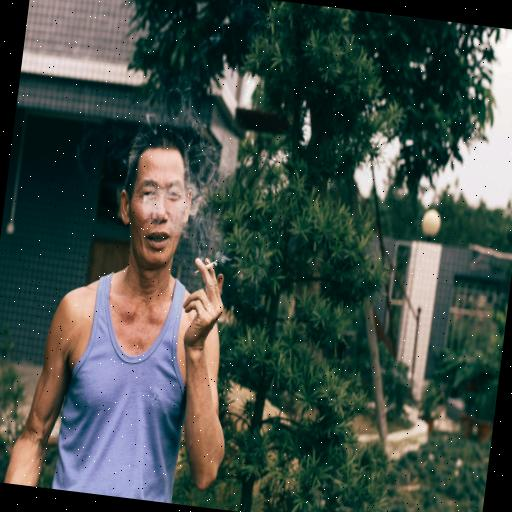terdeteksi pegang rokok: (178, 234, 232, 334)
